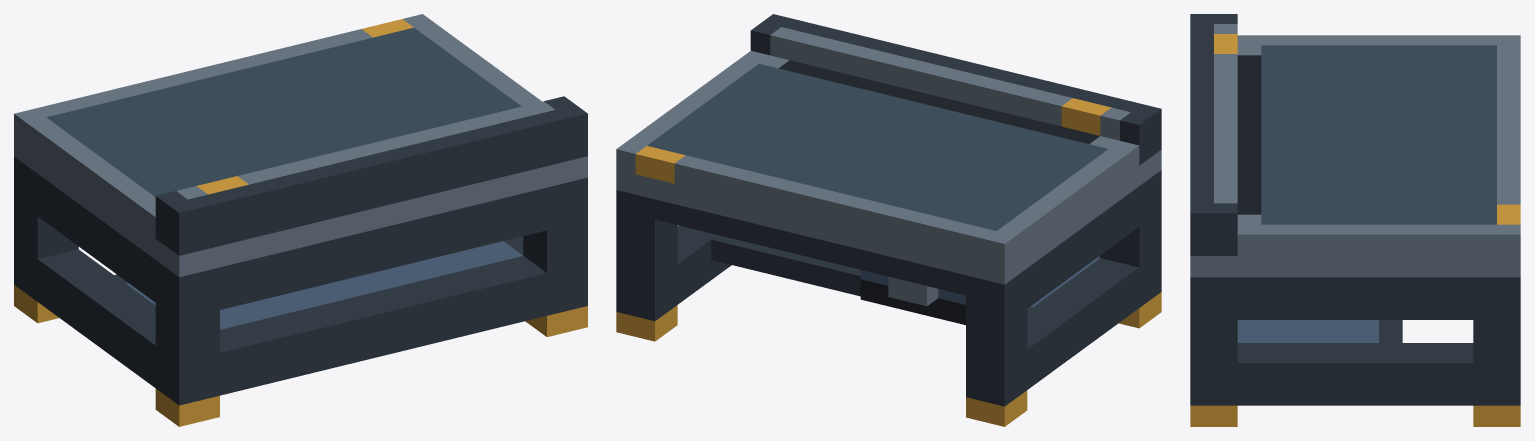
The model's file is lab_calibration_bench.glb.
3 views of the same model, side by side, from view 1: azimuth 30°, elevation 25°; view 2: azimuth 150°, elevation 25°; view 3: azimuth 270°, elevation 25° (orthographic). The views are drawn at different scales.
Parts seen in each view (by area): view 1: prop; view 2: prop; view 3: prop.
Part boxes in pixels (x1,y1,x2,y2): prop: (14, 14, 587, 426); prop: (616, 14, 1161, 426); prop: (1190, 14, 1520, 426).
Bounding box in the file's own units: 20 × 10 × 14.
